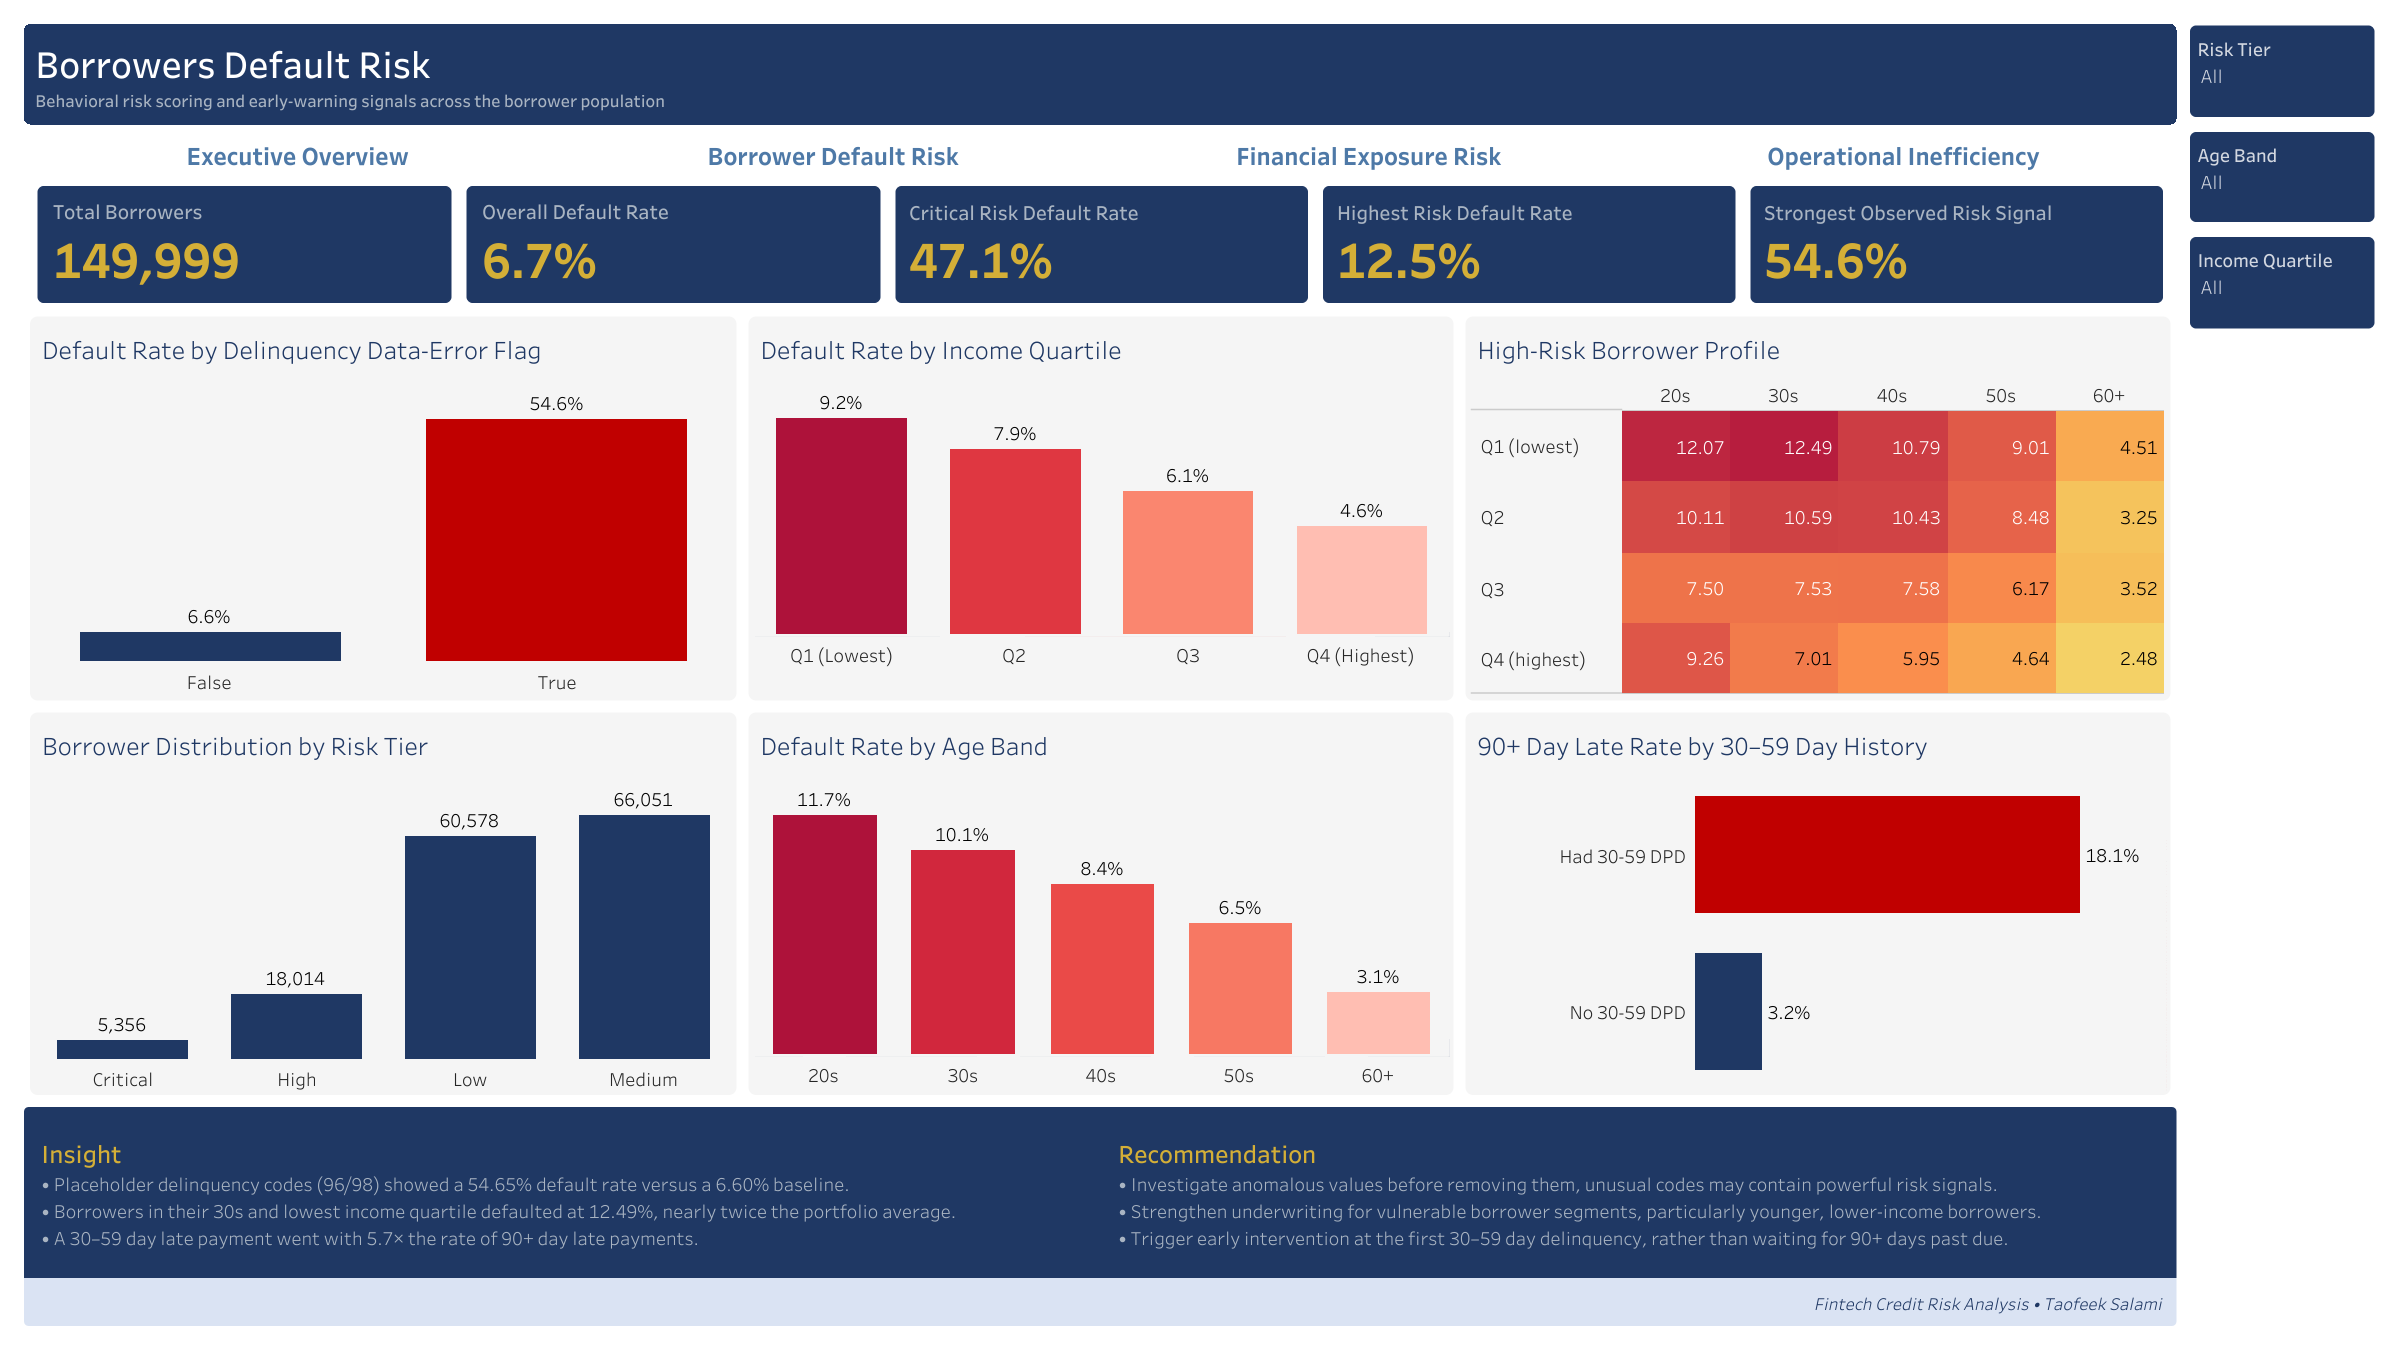

The dashboard page shown, as its layout file describes it:
{"tool":"tableau","page":{"name":"DB02 - Borrower Default Risk","canvas":[1600,900],"ordinal":1},"visuals":[{"type":"filter","title":"01 - KPI - Population","param":"[federated.0l6wklt0usoimd1as64wt0mplcod].[none:risk_tier:nk]","box":[1455,12,133,71]},{"type":"text","box":[16,16,1435,67]},{"type":"filter","title":"23 - Chart - High-Risk Borrower Profile","param":"[federated.1h25h3e1pzxy4819fw1kw17xls45].[none:age_band:nk]","box":[1455,83,133,70]},{"type":"dashboard-object","box":[20,87,357,32]},{"type":"dashboard-object","box":[377,87,357,32]},{"type":"dashboard-object","box":[734,87,357,32]},{"type":"dashboard-object","box":[1091,87,356,32]},{"type":"worksheet","title":"01 - KPI - Population","mark":"Automatic","box":[20,119,286,88]},{"type":"worksheet","title":"02 - KPI - Overall Default Rate","mark":"Automatic","box":[306,119,286,88]},{"type":"worksheet","title":"06 - KPI - Critical Risk Default Rate","mark":"Automatic","box":[592,119,285,88]},{"type":"worksheet","title":"07 - KPI - Highest Risk Segment Default Rate","mark":"Automatic","box":[877,119,285,88]},{"type":"worksheet","title":"08 - KPI - Strongest Early-Warning Signal","mark":"Automatic","box":[1162,119,285,88]},{"type":"filter","title":"23 - Chart - High-Risk Borrower Profile","param":"[federated.1h25h3e1pzxy4819fw1kw17xls45].[none:income_quartile:nk]","box":[1455,153,133,71]},{"type":"worksheet","title":"26 - Chart - Delinquency Data-Error Flag Comparison","mark":"Automatic","rows":["SeriousDlqin2yrs"],"cols":["delinquency_data_error_flag"],"box":[16,207,479,264]},{"type":"worksheet","title":"22 - Chart - Delinquency by Income Quartile","mark":"Automatic","rows":["delinquency_rate_pct (sql_p1_delinquency_by_income.csv)"],"cols":["income_quartile"],"box":[495,207,478,264]},{"type":"worksheet","title":"23 - Chart - High-Risk Borrower Profile","mark":"Square","rows":["income_quartile"],"cols":["age_band"],"box":[973,207,478,264]},{"type":"worksheet","title":"25 - Chart - Risk Tier Distribution","mark":"Automatic","rows":["vtsum"],"cols":["risk_tier"],"box":[16,471,479,263]},{"type":"worksheet","title":"21 - Chart - Delinquency by Age Band","mark":"Automatic","rows":["delinquency_rate_pct"],"cols":["age_band"],"box":[495,471,478,263]},{"type":"worksheet","title":"24 - Chart - Delinquency Progression","mark":"Bar","rows":["group (Union)"],"cols":["progression_rate_pct (Union)"],"box":[973,471,478,263]},{"type":"text","box":[16,738,718,114]},{"type":"text","box":[734,738,717,114]},{"type":"text","box":[16,852,1435,32]}]}

Visuals, with their boxes in screenshot pixels (x1, y1, x2, y2), scaled from the page's 1600x900 canvas onto the 2399x1349 screenshot:
"01 - KPI - Population" filter: x1=2182 y1=18 x2=2381 y2=124
text: x1=24 y1=24 x2=2176 y2=124
"23 - Chart - High-Risk Borrower Profile" filter: x1=2182 y1=124 x2=2381 y2=229
dashboard-object: x1=30 y1=130 x2=565 y2=178
dashboard-object: x1=565 y1=130 x2=1101 y2=178
dashboard-object: x1=1101 y1=130 x2=1636 y2=178
dashboard-object: x1=1636 y1=130 x2=2170 y2=178
"01 - KPI - Population" worksheet: x1=30 y1=178 x2=459 y2=310
"02 - KPI - Overall Default Rate" worksheet: x1=459 y1=178 x2=888 y2=310
"06 - KPI - Critical Risk Default Rate" worksheet: x1=888 y1=178 x2=1315 y2=310
"07 - KPI - Highest Risk Segment Default Rate" worksheet: x1=1315 y1=178 x2=1742 y2=310
"08 - KPI - Strongest Early-Warning Signal" worksheet: x1=1742 y1=178 x2=2170 y2=310
"23 - Chart - High-Risk Borrower Profile" filter: x1=2182 y1=229 x2=2381 y2=336
"26 - Chart - Delinquency Data-Error Flag Comparison" worksheet: x1=24 y1=310 x2=742 y2=706
"22 - Chart - Delinquency by Income Quartile" worksheet: x1=742 y1=310 x2=1459 y2=706
"23 - Chart - High-Risk Borrower Profile" worksheet (Square marks): x1=1459 y1=310 x2=2176 y2=706
"25 - Chart - Risk Tier Distribution" worksheet: x1=24 y1=706 x2=742 y2=1100
"21 - Chart - Delinquency by Age Band" worksheet: x1=742 y1=706 x2=1459 y2=1100
"24 - Chart - Delinquency Progression" worksheet (Bar marks): x1=1459 y1=706 x2=2176 y2=1100
text: x1=24 y1=1106 x2=1101 y2=1277
text: x1=1101 y1=1106 x2=2176 y2=1277
text: x1=24 y1=1277 x2=2176 y2=1325
